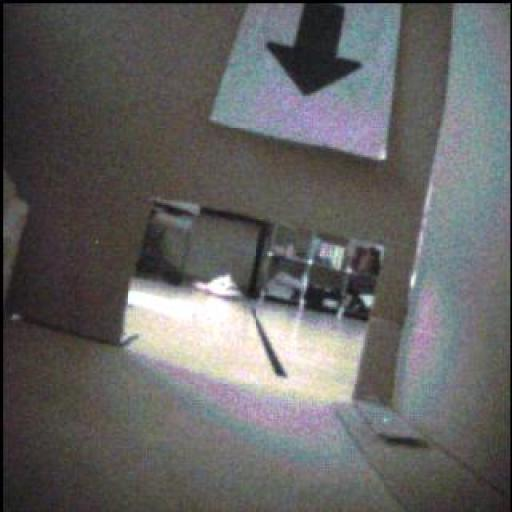arrow: (268, 5, 363, 96)
